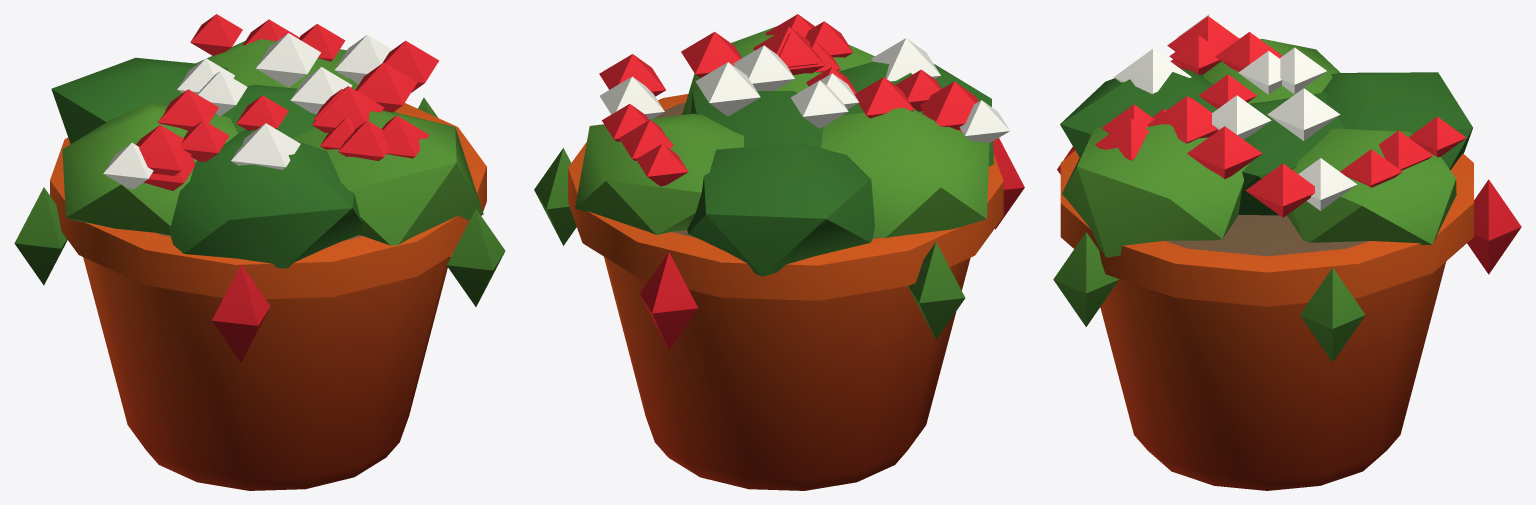
The model's file is Flower_Pot.fbx.
The picture shows the model from 3 angles, left to right: view 1: azimuth 30°, elevation 25°; view 2: azimuth 150°, elevation 25°; view 3: azimuth 270°, elevation 25°; orthographic projection. The views are drawn at different scales.
Visible parts, largest first — view 1: Flower_Pot_LOD0; view 2: Flower_Pot_LOD0; view 3: Flower_Pot_LOD0.
Boxes of the visible parts, bbox=[...] form: Flower_Pot_LOD0: bbox=[14, 14, 505, 490]; Flower_Pot_LOD0: bbox=[534, 14, 1024, 490]; Flower_Pot_LOD0: bbox=[1053, 14, 1521, 490].
Size of what is drawn, in the model's own units: 1.03 by 0.8652 by 0.9941.
Materials: 1 (1 with a texture image).
